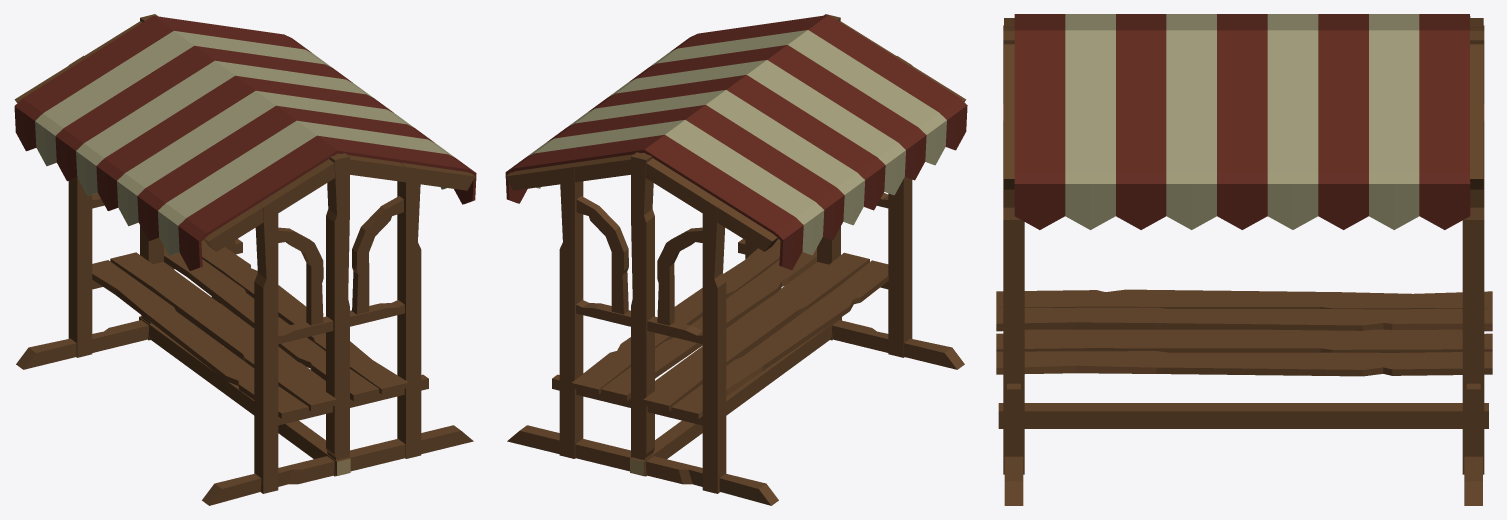
Rendered from v_marketstand_1.glb.
3 renders of one model, left to right at view 1: azimuth 30°, elevation 25°; view 2: azimuth 150°, elevation 25°; view 3: azimuth 270°, elevation 25°, orthographic. The views are drawn at different scales.
Visible parts, largest first — view 1: MarketStand_1; view 2: MarketStand_1; view 3: MarketStand_1.
Part boxes in pixels (box(x1,y1,x2,y2)): MarketStand_1: box(14, 14, 476, 505); MarketStand_1: box(505, 14, 967, 505); MarketStand_1: box(996, 14, 1492, 505).
Size of the model in its own units: 0.9509 by 1.05 by 1.19.
